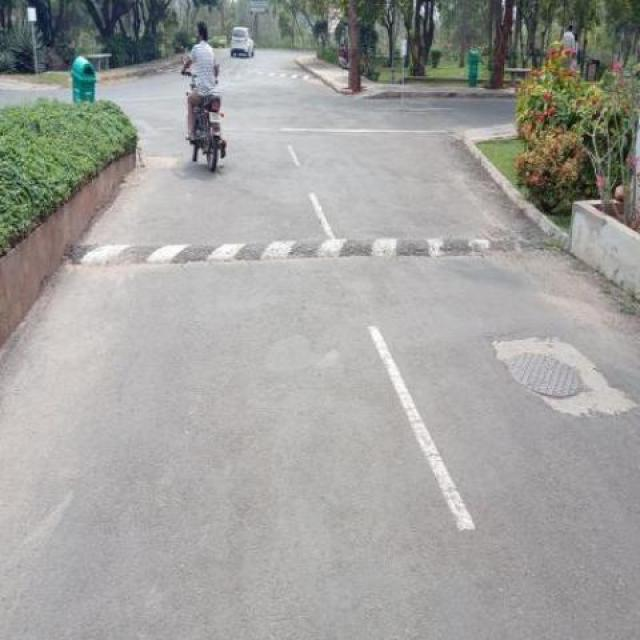Manhole: (503, 348, 592, 402)
Speed Bump: (64, 230, 560, 258)
